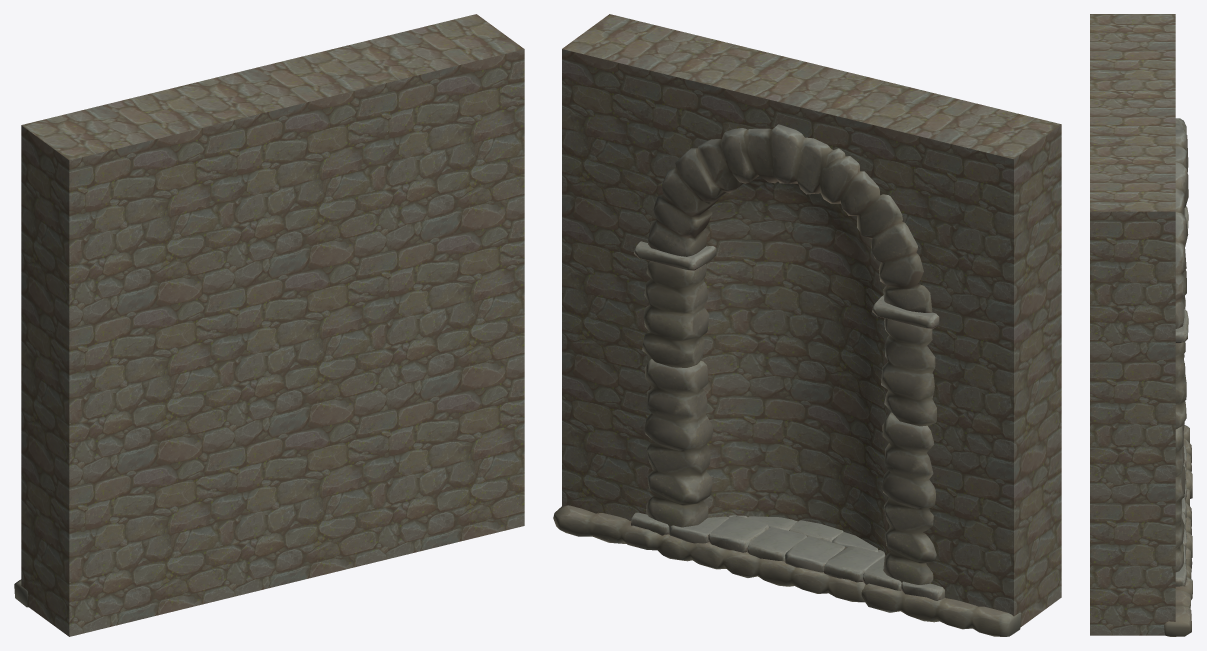
The model's file is SM_FW01_Ruins_Int_Wall_B_6x6_01.fbx.
3 renders of one model, left to right at view 1: azimuth 30°, elevation 25°; view 2: azimuth 150°, elevation 25°; view 3: azimuth 270°, elevation 25°, orthographic. The views are drawn at different scales.
Visible parts, largest first — view 1: SM_FW01_Ruins_Int_Wall_B_6x6_01; view 2: SM_FW01_Ruins_Int_Wall_B_6x6_01, SM_FW01_Ruins_Int_Wall_B_6x6_01_LOD0; view 3: SM_FW01_Ruins_Int_Wall_B_6x6_01, SM_FW01_Ruins_Int_Wall_B_6x6_01_LOD0.
Boxes of the visible parts, x1,y1,x2,y2 form: SM_FW01_Ruins_Int_Wall_B_6x6_01: (21, 14, 524, 636); SM_FW01_Ruins_Int_Wall_B_6x6_01: (562, 14, 1061, 627); SM_FW01_Ruins_Int_Wall_B_6x6_01_LOD0: (553, 124, 1021, 636); SM_FW01_Ruins_Int_Wall_B_6x6_01: (1090, 14, 1175, 635); SM_FW01_Ruins_Int_Wall_B_6x6_01_LOD0: (1164, 118, 1192, 636).
Size of what is drawn, in the model's own units: 6.04 by 6.06 by 1.32.
